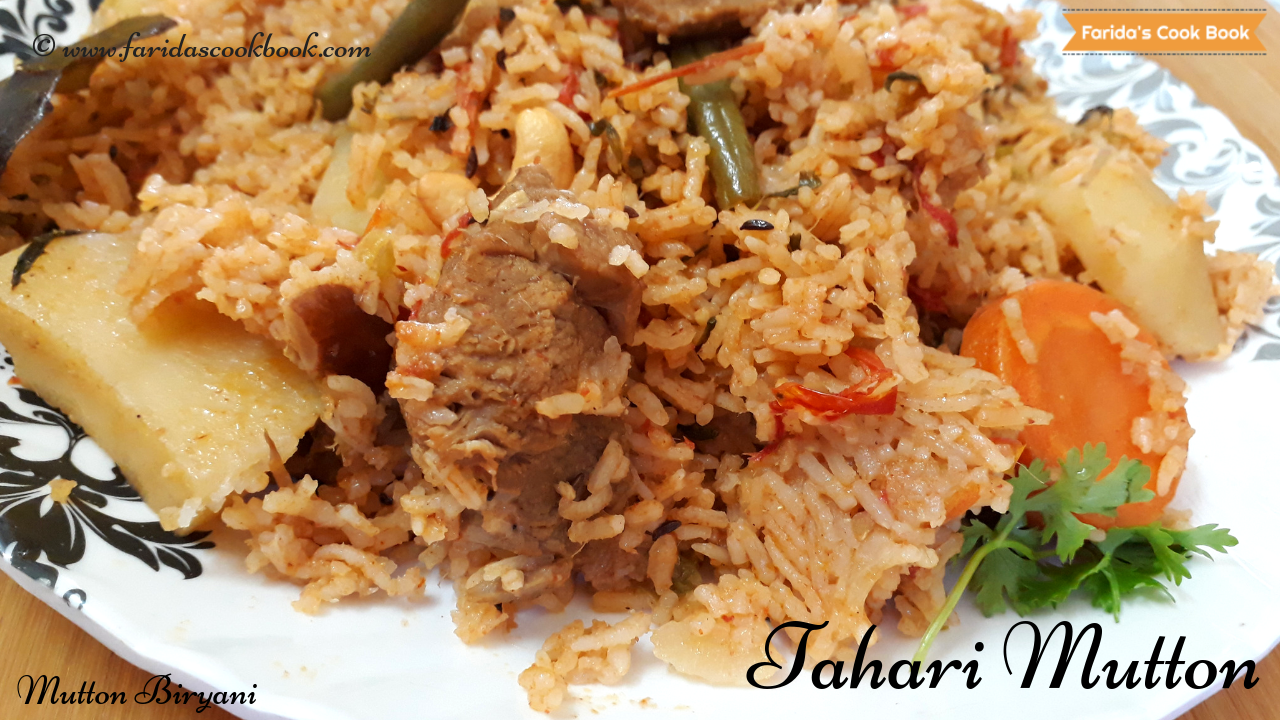tehari: (2, 47, 1227, 626)
